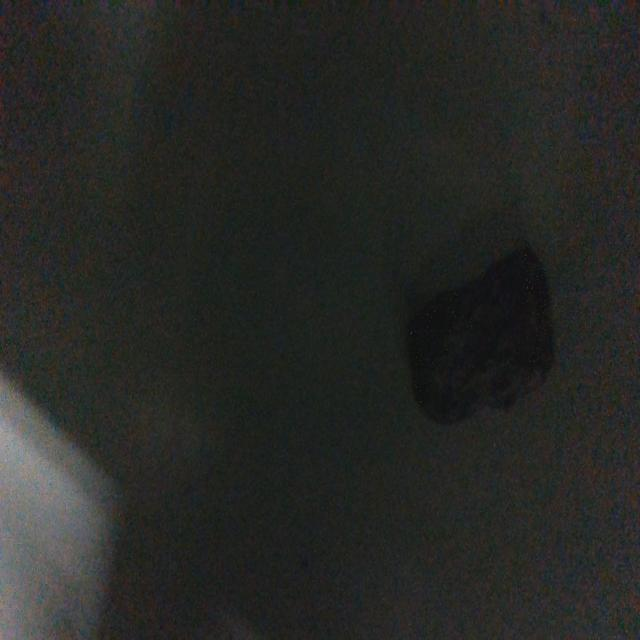stone: (408, 242, 556, 429)
